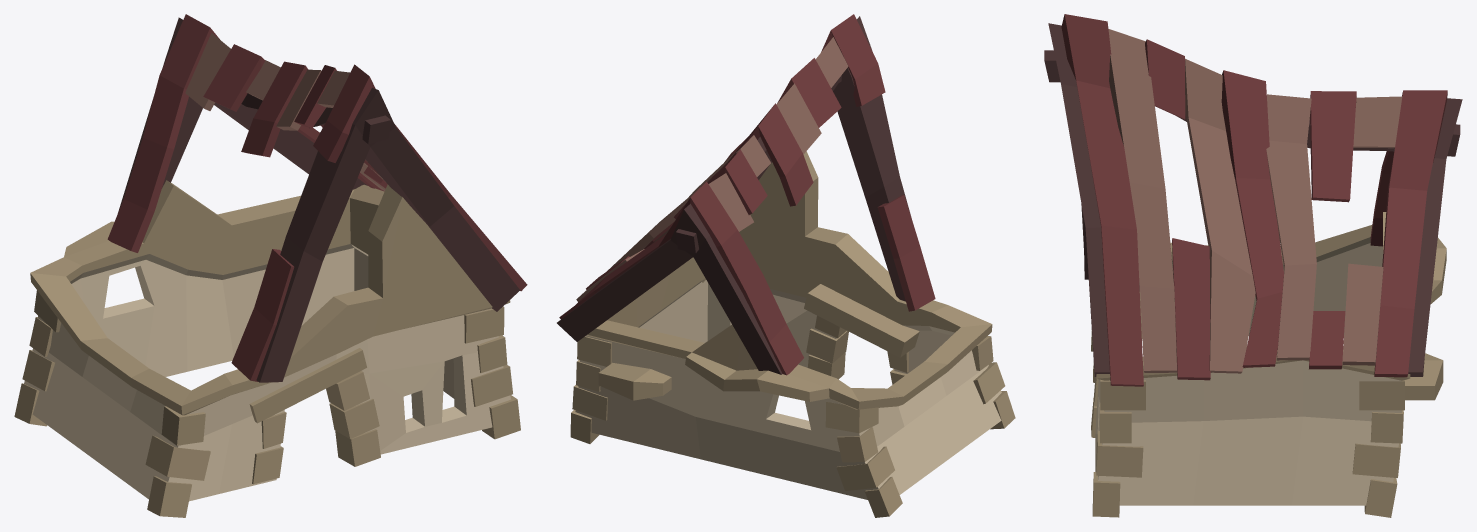
The model's file is LightSandStoneBuildingSmallWoodcutterHouse1.fbx.
3 renders of one model, left to right at view 1: azimuth 30°, elevation 25°; view 2: azimuth 150°, elevation 25°; view 3: azimuth 270°, elevation 25°, orthographic. The views are drawn at different scales.
Parts seen in each view (by area): view 1: House, Roof, HouseAFrames, HouseBricks; view 2: House, Roof, HouseBricks, HouseAFrames; view 3: Roof, House, HouseAFrames, HouseBricks.
Part boxes in pixels (bbox=[...]): House: bbox=[24, 180, 511, 501]; Roof: bbox=[107, 14, 527, 381]; HouseAFrames: bbox=[118, 17, 520, 382]; HouseBricks: bbox=[14, 290, 520, 517]; House: bbox=[575, 151, 1001, 499]; Roof: bbox=[559, 14, 935, 375]; HouseBricks: bbox=[570, 278, 1015, 517]; HouseAFrames: bbox=[557, 16, 911, 374]; Roof: bbox=[1061, 14, 1447, 386]; House: bbox=[1095, 212, 1446, 505]; HouseAFrames: bbox=[1044, 23, 1462, 376]; HouseBricks: bbox=[1091, 292, 1404, 517].
Size of the model in its own units: 1672 by 1747 by 1544.
